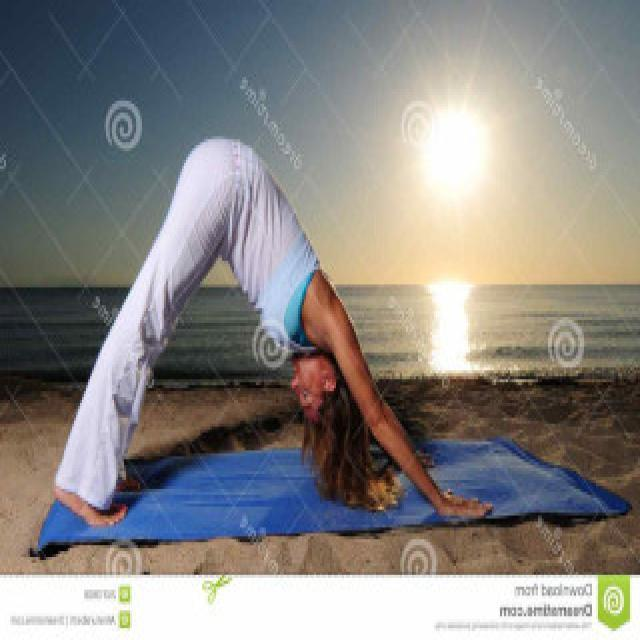yoga-pose downward: (47, 137, 494, 524)
